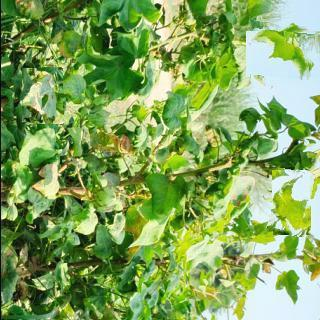blight: (21, 68, 62, 124)
curl: (250, 22, 313, 86), (268, 169, 312, 236)
